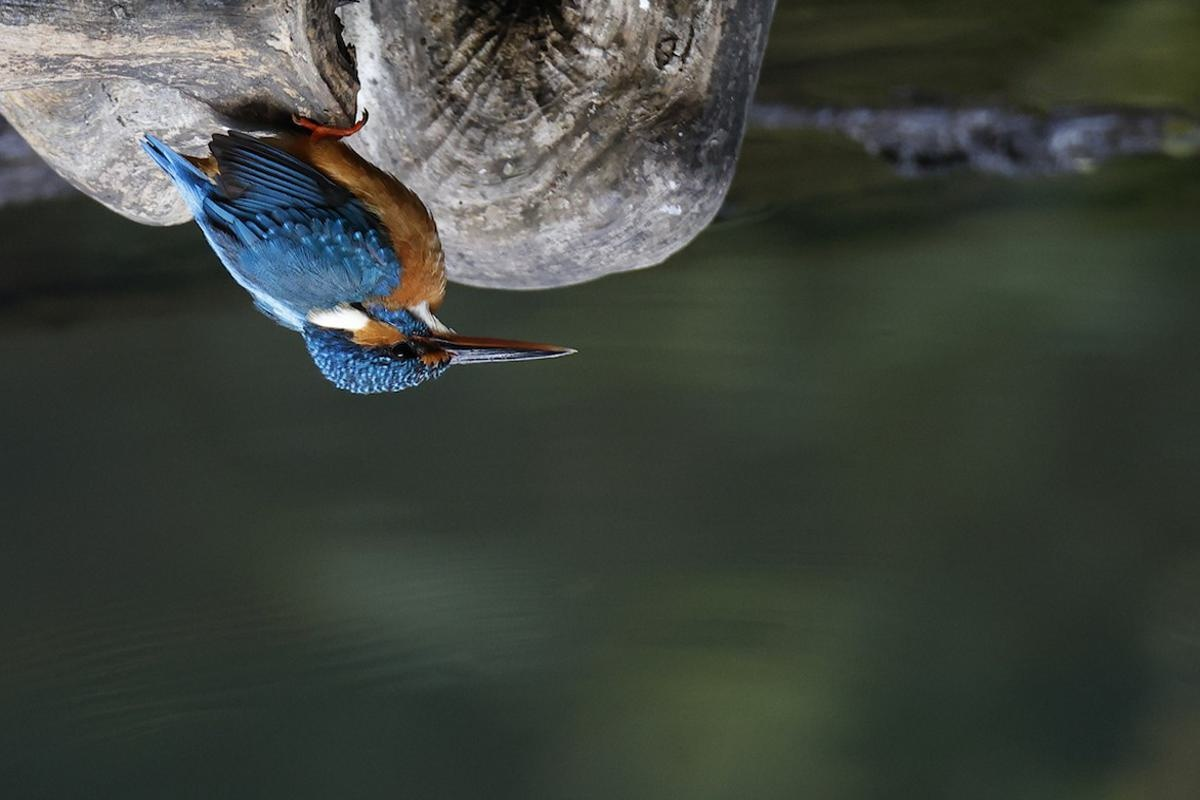kingfisher: (121, 108, 601, 407)
